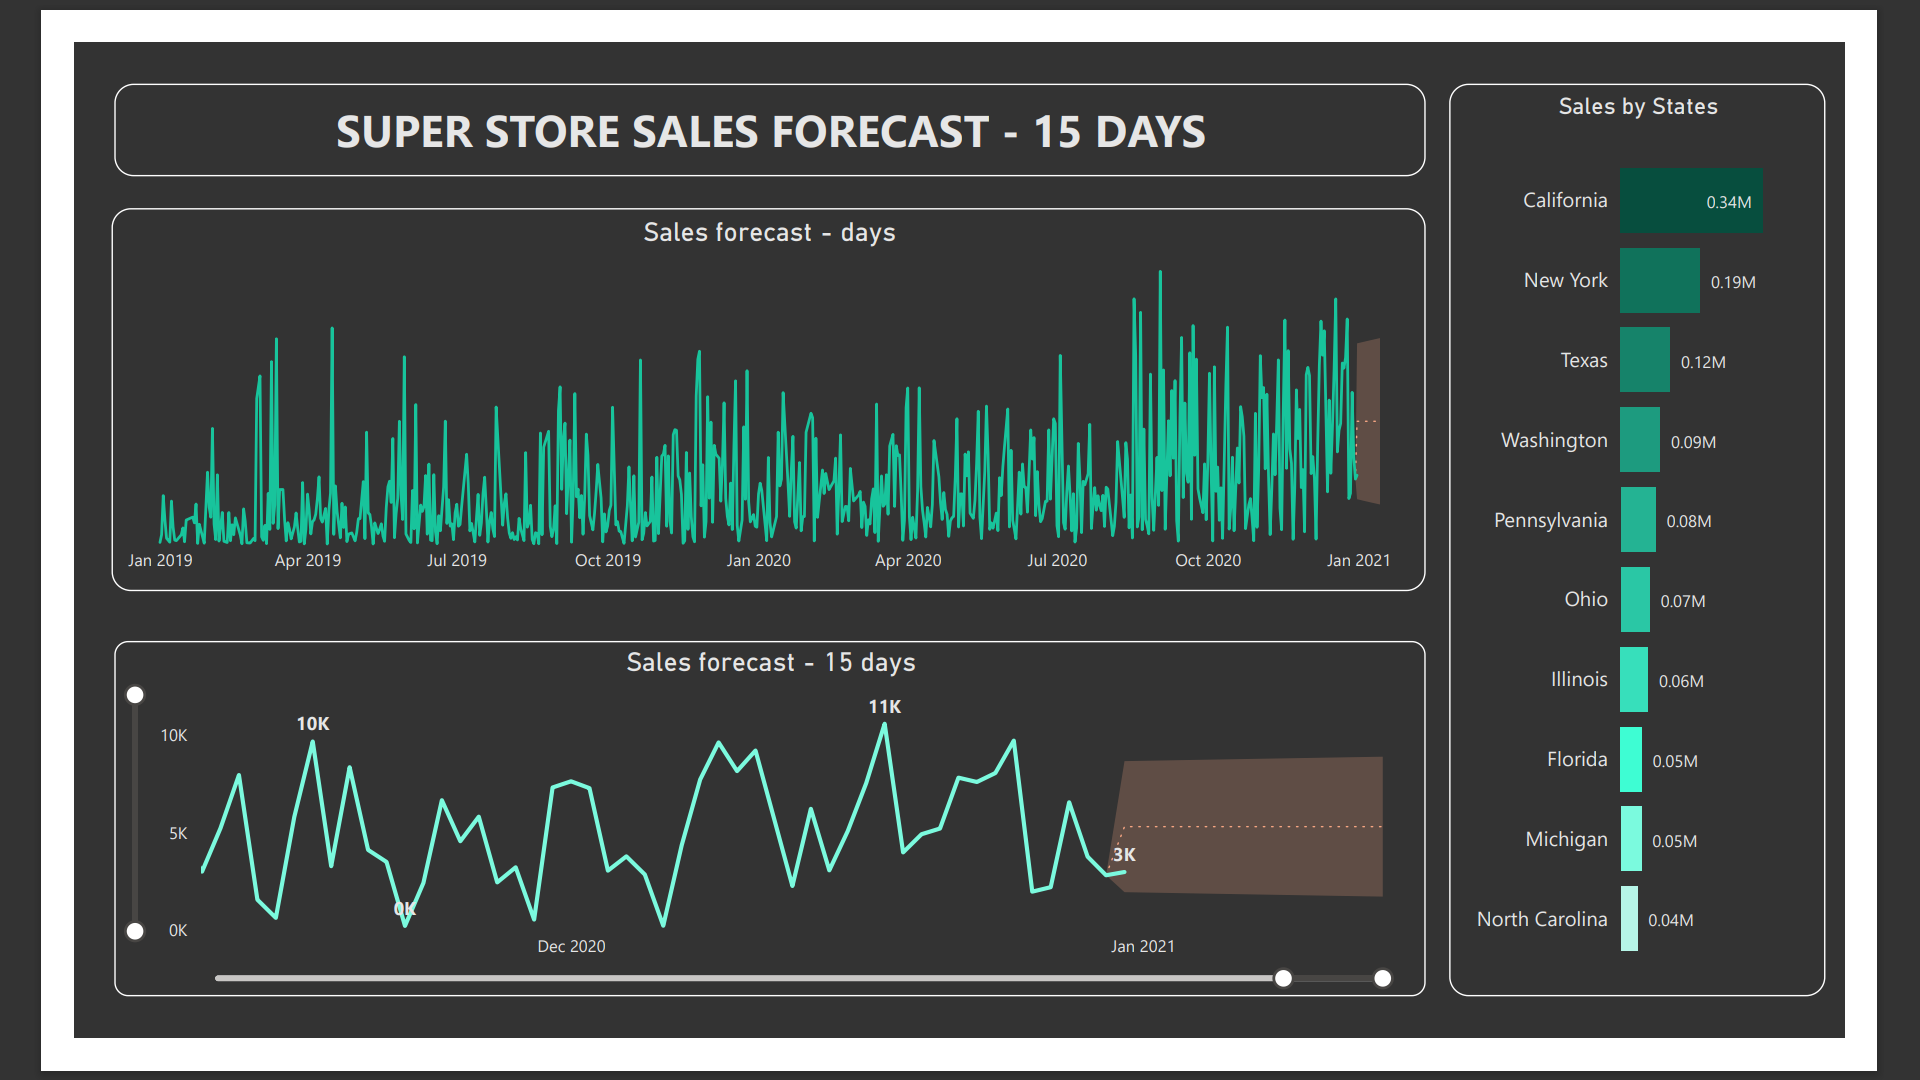

Layout of this report page (visuals, bound fields, positions):
{"tool":"powerbi","page":{"name":"Page 2","canvas":[1280,720],"ordinal":1},"visuals":[{"type":"lineChart","title":"Sales forecast - days","fields":{"Y":["Sum(SuperStore_Sales_Dataset.Sales)"],"Category":["SuperStore_Sales_Dataset.Order Date"]},"box":[27.5,119.6,949.4,277.2],"z":0},{"type":"lineChart","title":"Sales forecast - 15 days","fields":{"Y":["Sum(SuperStore_Sales_Dataset.Sales)"],"Category":["SuperStore_Sales_Dataset.Order Date"]},"box":[29.2,433.1,947.6,256.8],"z":1000},{"type":"clusteredBarChart","title":"Sales by States","fields":{"Category":["SuperStore_Sales_Dataset.State","SuperStore_Sales_Dataset.Sub-Category"],"Y":["Sum(SuperStore_Sales_Dataset.Sales)"]},"box":[993.7,30.1,272.8,659.8],"z":2000},{"type":"textbox","box":[29.2,30.1,947.6,67.3],"z":3000}]}

Visuals, with their boxes in screenshot pixels (x1, y1, x2, y2), scaled from the page's 1280x720 canvas onto the 1920x1080 screenshot:
"Sales forecast - days" lineChart: bbox=(41, 179, 1465, 595)
"Sales forecast - 15 days" lineChart: bbox=(44, 650, 1465, 1035)
"Sales by States" clusteredBarChart: bbox=(1491, 45, 1900, 1035)
textbox: bbox=(44, 45, 1465, 146)
